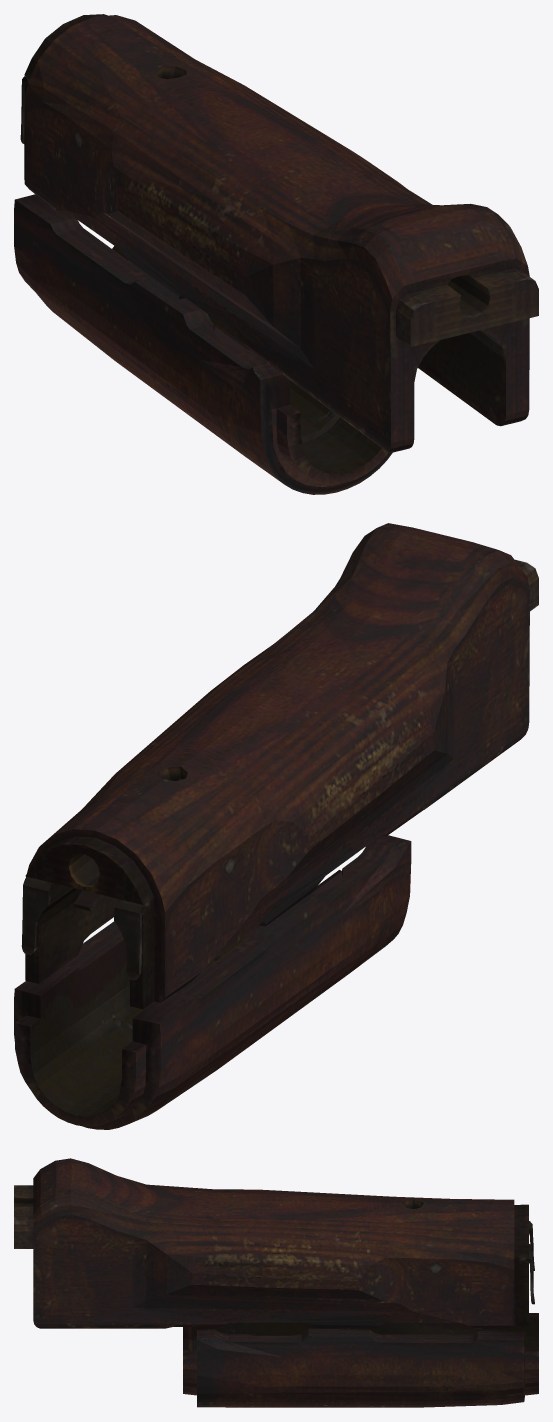
3 views of the same model, one above another, from view 1: azimuth 30°, elevation 25°; view 2: azimuth 150°, elevation 25°; view 3: azimuth 270°, elevation 25° (orthographic). The views are drawn at different scales.
Visible parts, largest first — view 1: TW_59e6284f86f77440d569536f_PZ_Import; view 2: TW_59e6284f86f77440d569536f_PZ_Import; view 3: TW_59e6284f86f77440d569536f_PZ_Import.
Boxes of the visible parts, x1,y1,x2,y2 form: TW_59e6284f86f77440d569536f_PZ_Import: (14,14,538,494); TW_59e6284f86f77440d569536f_PZ_Import: (14,523,538,1129); TW_59e6284f86f77440d569536f_PZ_Import: (14,1158,538,1407).
Bounding box in the file's own units: 0.0267 × 0.0962 × 0.0459.
Materials: 1 (1 with a texture image).
